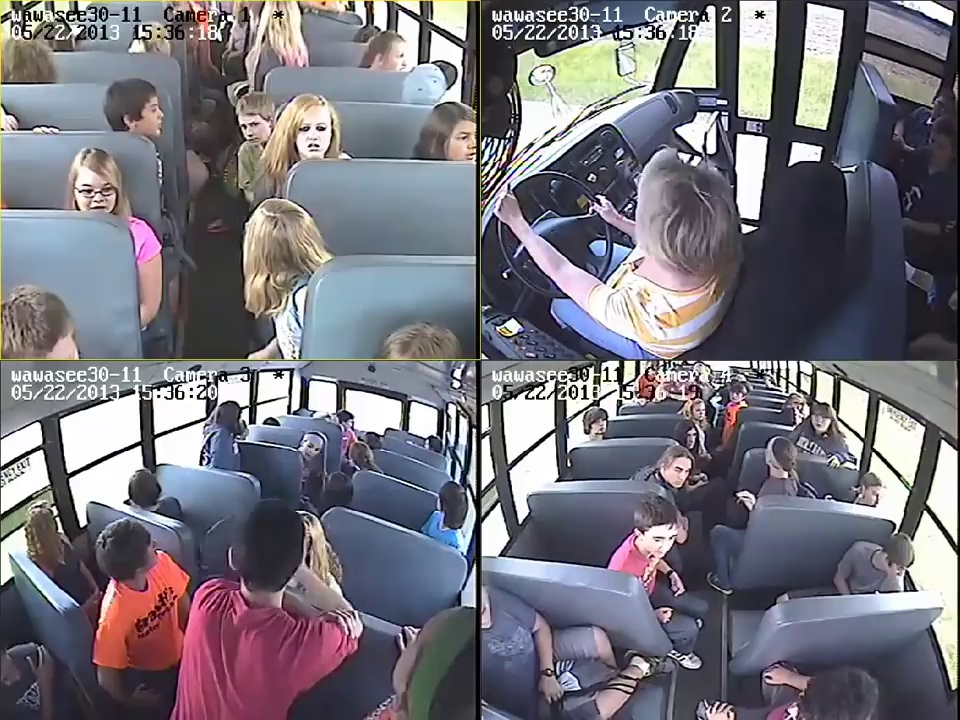face: (296, 113, 332, 155), (76, 173, 116, 210), (139, 99, 165, 136), (451, 124, 477, 159), (647, 526, 674, 557), (239, 112, 265, 144), (668, 454, 692, 488), (387, 40, 408, 71), (862, 483, 887, 505), (810, 412, 833, 433), (301, 436, 319, 458), (588, 417, 608, 435), (682, 425, 697, 448), (689, 401, 706, 420), (728, 388, 743, 401)
